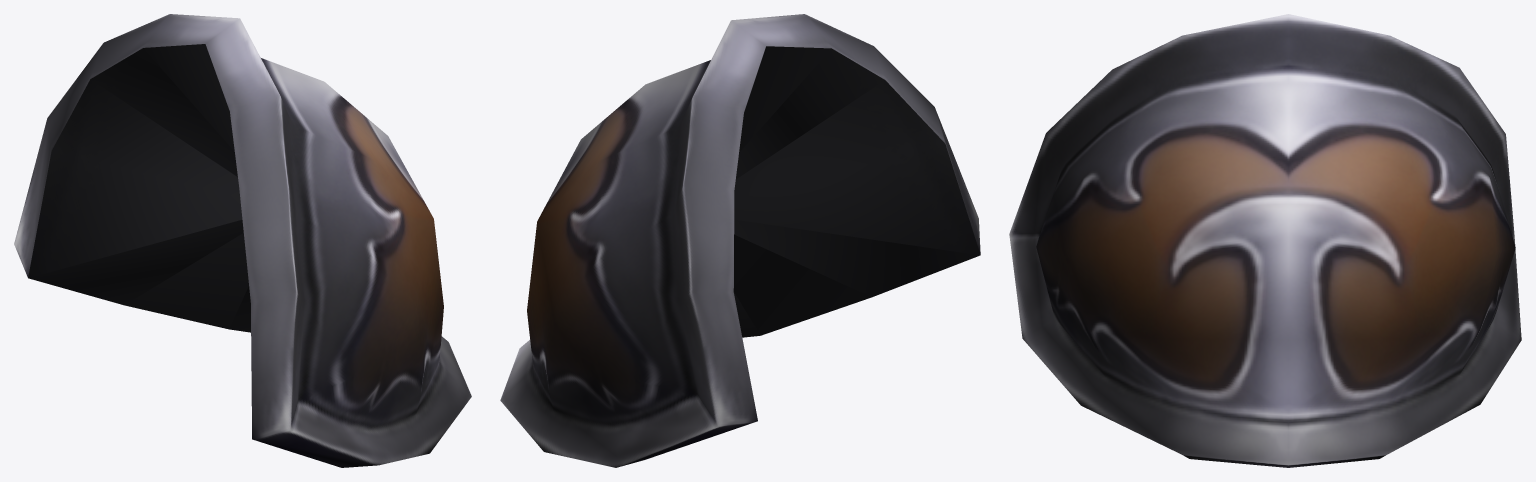
Rendered from Mage-shoulder02.FBX.
3 views of the same model, side by side, from view 1: azimuth 30°, elevation 25°; view 2: azimuth 150°, elevation 25°; view 3: azimuth 270°, elevation 25° (orthographic). The views are drawn at different scales.
Parts seen in each view (by area): view 1: Mage-shoulderL02; view 2: Mage-shoulderL02; view 3: Mage-shoulderL02.
Boxes of the visible parts, x1,y1,x2,y2 form: Mage-shoulderL02: (14,14,471,467); Mage-shoulderL02: (500,14,980,467); Mage-shoulderL02: (1009,14,1521,467).
Size of the model in its own units: 16.06 by 18.64 by 22.96.
